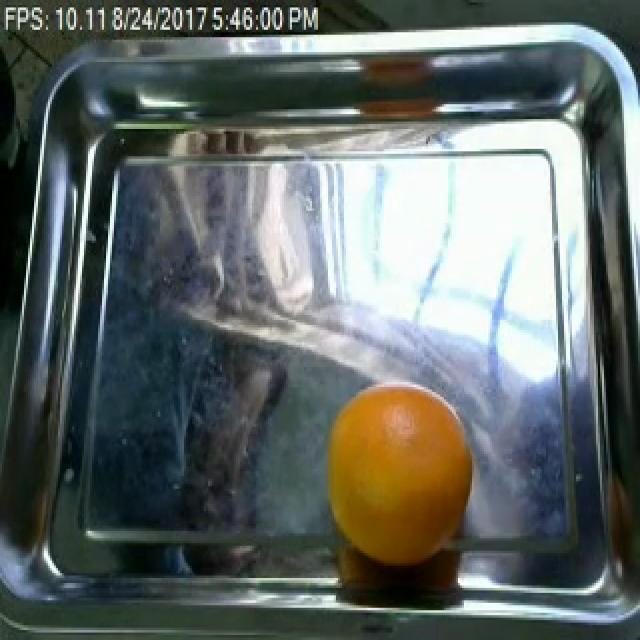Fruit: (328, 380, 478, 573)
